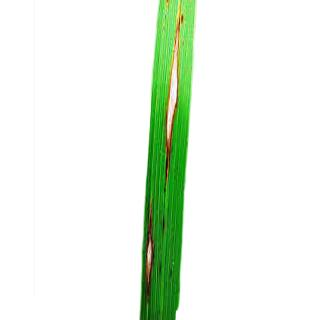Blast: (156, 6, 196, 192), (136, 204, 167, 310)
